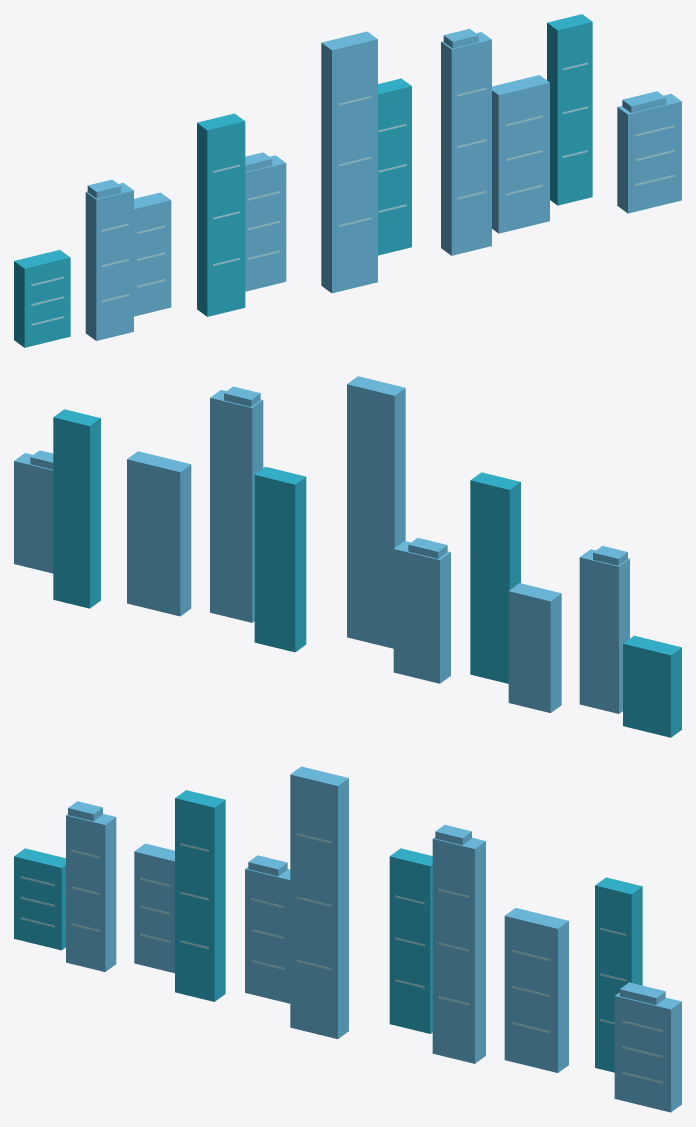
The model's file is city_backdrop.glb.
The picture shows the model from 3 angles, top to bottom: view 1: azimuth 30°, elevation 25°; view 2: azimuth 150°, elevation 25°; view 3: azimuth 330°, elevation 25°; orthographic projection. The views are drawn at different scales.
Visible parts, largest first — view 1: frutiger_aero_city_backdrop; view 2: frutiger_aero_city_backdrop; view 3: frutiger_aero_city_backdrop.
Boxes of the visible parts, x1,y1,x2,y2 form: frutiger_aero_city_backdrop: (14, 14, 681, 347); frutiger_aero_city_backdrop: (14, 376, 681, 737); frutiger_aero_city_backdrop: (14, 766, 681, 1112).
Bounding box in the file's own units: 23.85 × 8.6 × 2.84.
Materials: 2 (2 with a texture image).
